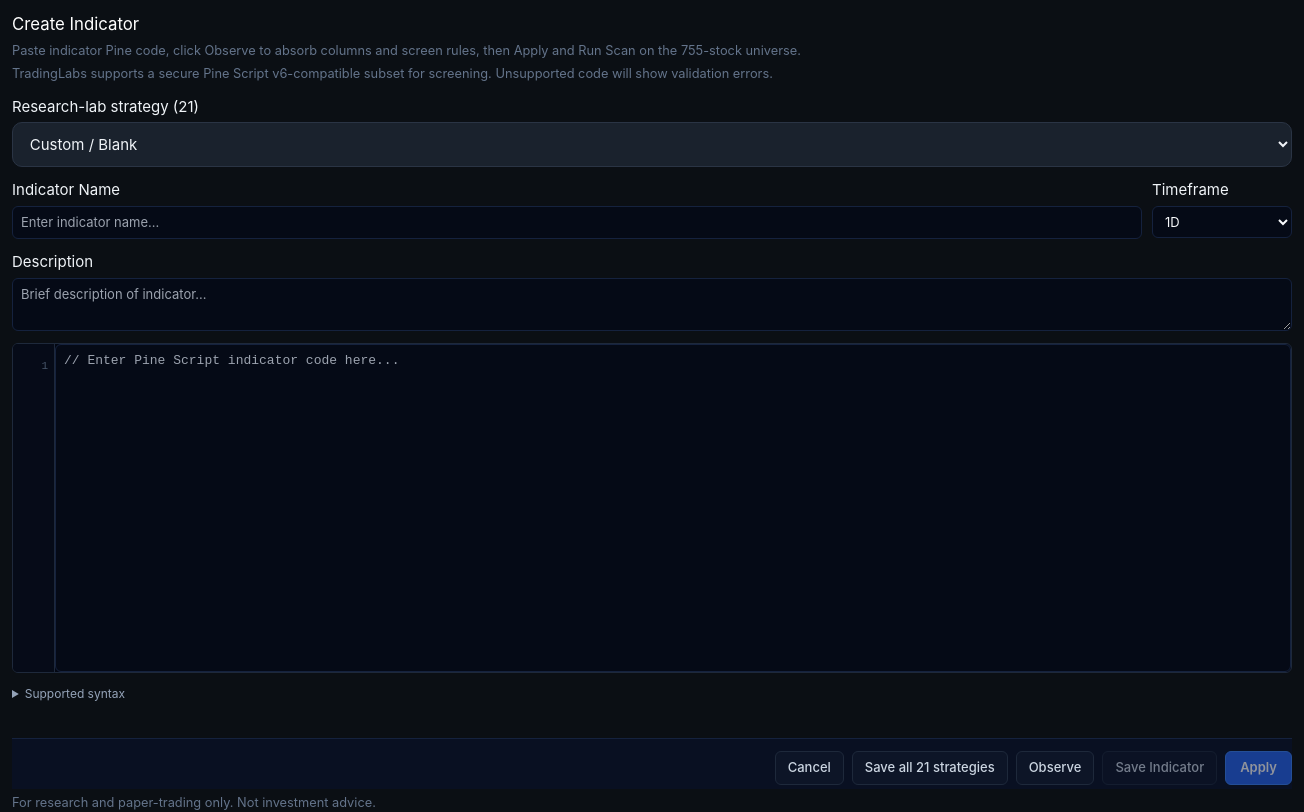
Scenario: IndicatorEditorPanel › fills pine from a research-lab template
Select "08 Golden Cross 20/50 [SCAN]" in the dropdown with test id "select-lab-template": (652, 145) [12, 122, 1292, 168]
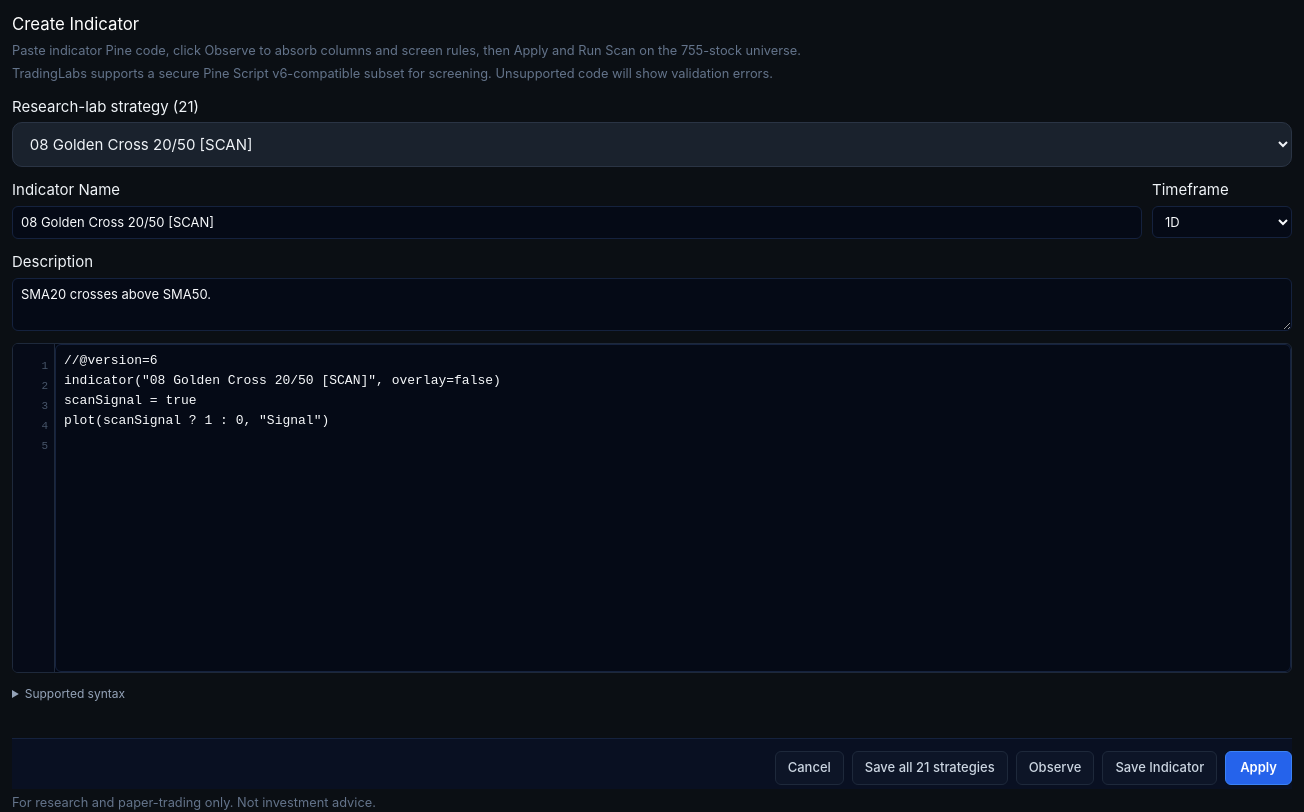
Expected: the field with test id "input-indicator-name" holds "08 Golden Cross 20/50 [SCAN]", [12, 206, 1142, 239]
